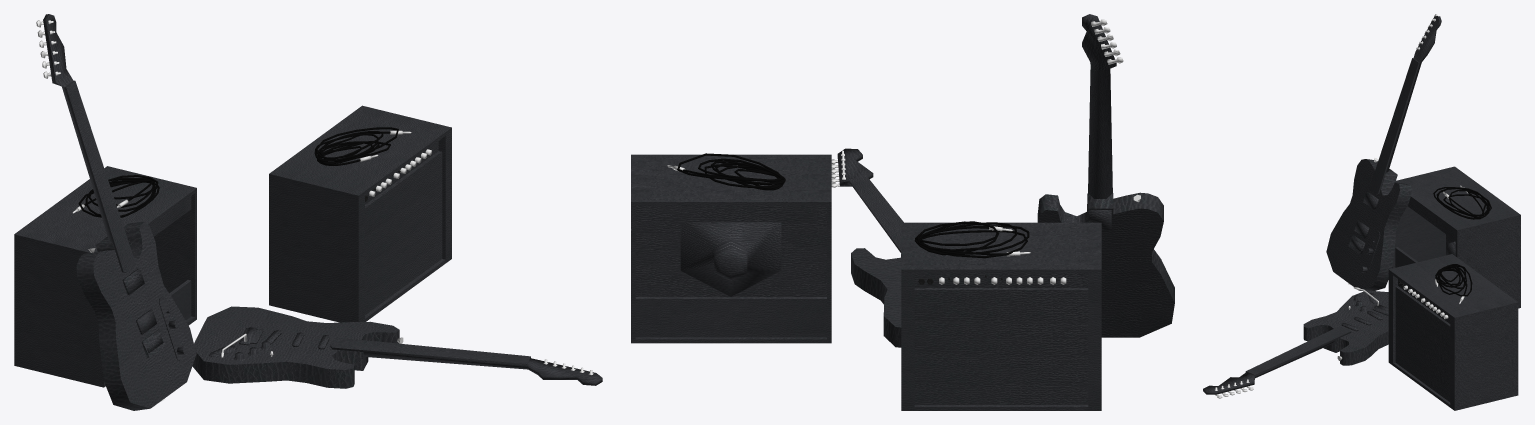
The model's file is guitarCombo.fbx.
3 views of the same model, side by side, from view 1: azimuth 30°, elevation 25°; view 2: azimuth 150°, elevation 25°; view 3: azimuth 270°, elevation 25° (orthographic). The views are drawn at different scales.
Visible parts, largest first — view 1: Amp.PeaveyEnvoy110_0, Amp.PeaveyEnvoy110.001_1, Guitar.Fender.Telecaster_3, Guitar.Fender.Stratocaster_4, Cable.C.Cord_5, Cable.F.Cord_10; view 2: Amp.PeaveyEnvoy110_0, Amp.PeaveyEnvoy110.001_1, Guitar.Fender.Telecaster_3, Guitar.Fender.Stratocaster_4, Cable.F.Cord_10, Cable.C.Cord_5; view 3: Amp.PeaveyEnvoy110_0, Amp.PeaveyEnvoy110.001_1, Guitar.Fender.Telecaster_3, Guitar.Fender.Stratocaster_4, Cable.F.Cord_10, Cable.C.Cord_5.
Part boxes in pixels (x1,y1,x2,y2): Amp.PeaveyEnvoy110_0: (269, 105, 451, 322); Amp.PeaveyEnvoy110.001_1: (14, 166, 196, 387); Guitar.Fender.Telecaster_3: (36, 14, 196, 410); Guitar.Fender.Stratocaster_4: (192, 306, 602, 388); Cable.C.Cord_5: (314, 127, 398, 165); Cable.F.Cord_10: (78, 175, 159, 217); Amp.PeaveyEnvoy110_0: (631, 154, 831, 343); Amp.PeaveyEnvoy110.001_1: (901, 222, 1101, 410); Guitar.Fender.Telecaster_3: (1037, 14, 1174, 337); Guitar.Fender.Stratocaster_4: (831, 148, 903, 347); Cable.F.Cord_10: (914, 221, 1029, 258); Cable.C.Cord_5: (677, 153, 785, 190); Amp.PeaveyEnvoy110_0: (1388, 254, 1518, 410); Amp.PeaveyEnvoy110.001_1: (1392, 166, 1520, 308); Guitar.Fender.Telecaster_3: (1326, 14, 1441, 291); Guitar.Fender.Stratocaster_4: (1203, 287, 1388, 398); Cable.F.Cord_10: (1433, 187, 1491, 219); Cable.C.Cord_5: (1435, 264, 1472, 296).
Bounding box in the file's own units: 122 × 94.58 × 108.
11 materials, 6 textured.
